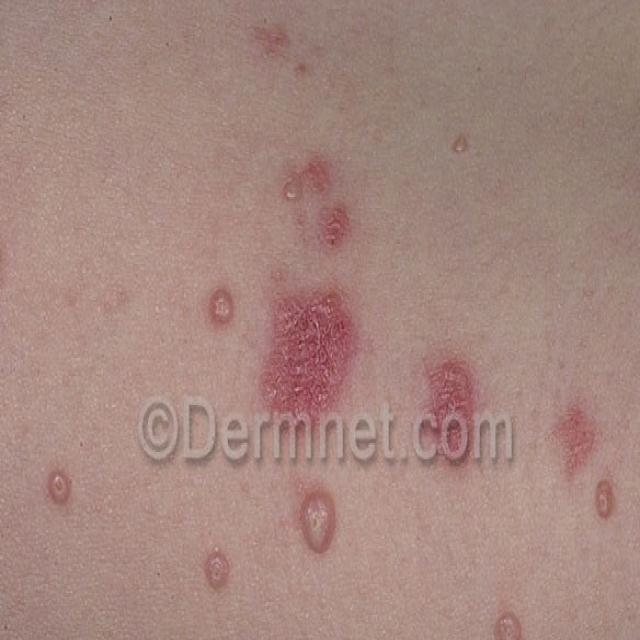Viral Infections: (265, 270, 366, 428), (549, 404, 634, 545), (420, 335, 488, 472), (279, 157, 370, 257), (247, 28, 321, 118), (290, 475, 347, 565), (35, 445, 81, 522), (198, 546, 238, 602), (198, 285, 242, 335), (489, 596, 536, 640), (0, 217, 13, 291), (446, 132, 473, 159)
